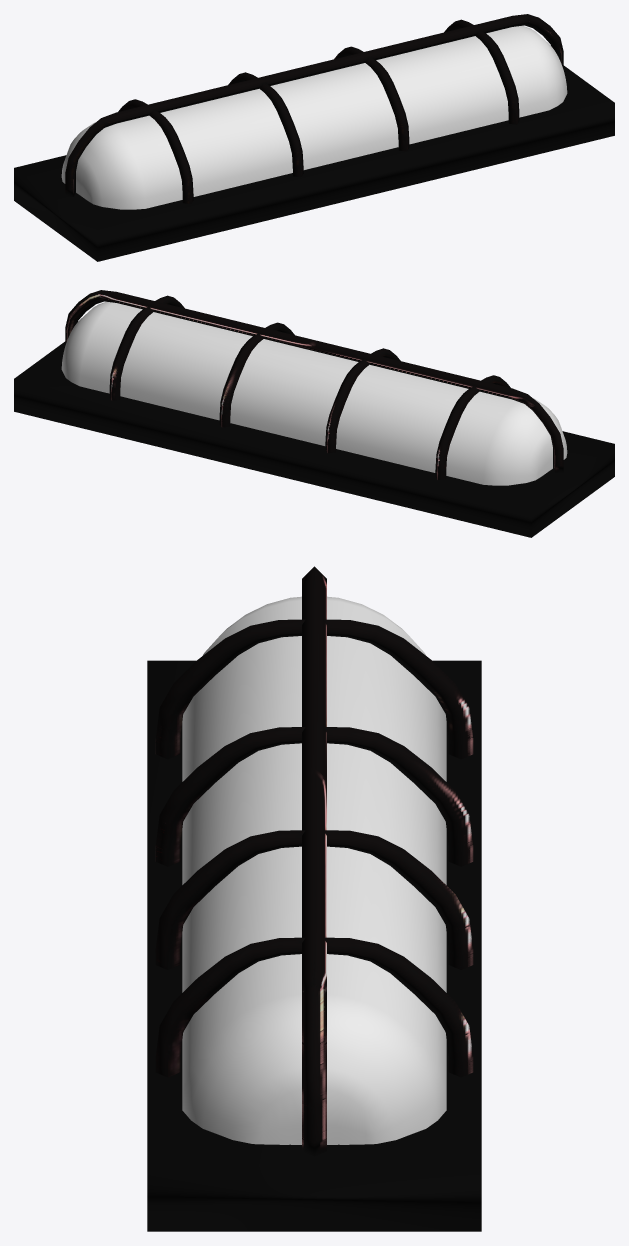
The model's file is LightModel.fbx.
The picture shows the model from 3 angles, top to bottom: view 1: azimuth 30°, elevation 25°; view 2: azimuth 150°, elevation 25°; view 3: azimuth 270°, elevation 25°; orthographic projection. The views are drawn at different scales.
Visible parts, largest first — view 1: Cube.004, Cube.003, Cube; view 2: Cube.004, Cube.003, Cube; view 3: Cube.004, Cube.003, Cube.
Part boxes in pixels (x1,y1,x2,y2): Cube.004: (61, 25, 567, 209); Cube.003: (14, 65, 614, 261); Cube: (65, 14, 563, 203); Cube.004: (61, 301, 567, 485); Cube.003: (14, 341, 614, 537); Cube: (65, 290, 563, 479); Cube.004: (182, 596, 446, 1144); Cube.003: (147, 660, 481, 1231); Cube: (155, 566, 473, 1156).
Size of the model in its own units: 295 by 56.77 by 82.57.
